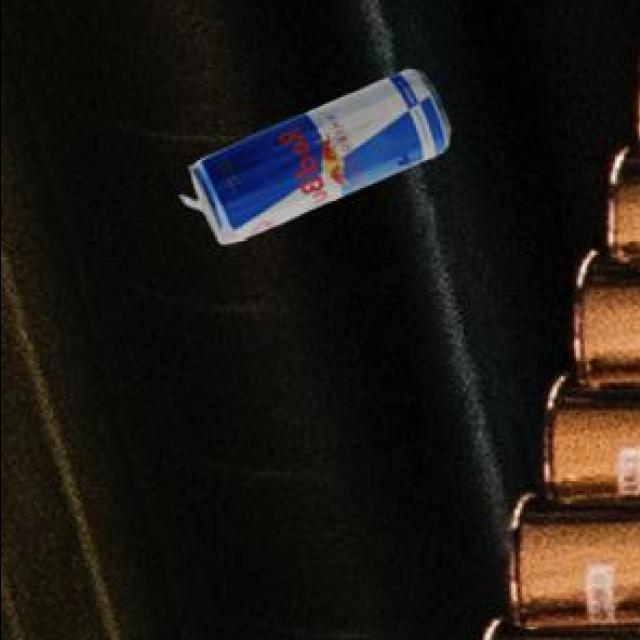logam: (176, 66, 446, 241)
